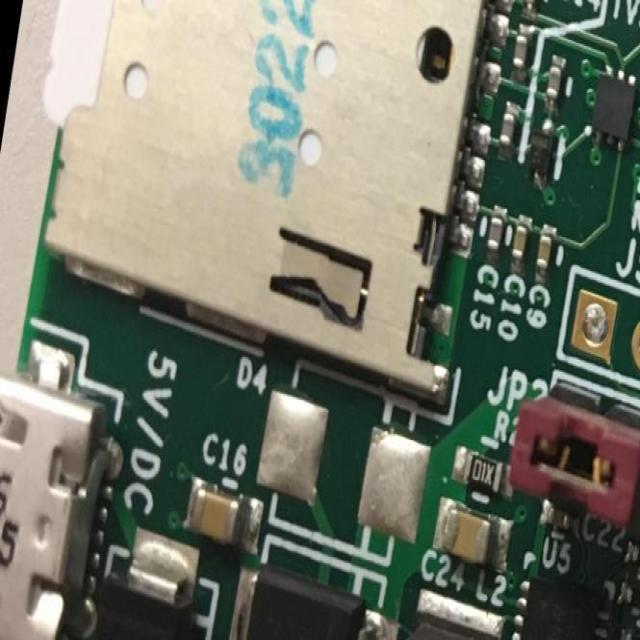IC: (507, 557, 610, 640)
capacitor: (182, 477, 266, 554), (433, 495, 512, 573), (540, 47, 569, 114), (494, 96, 522, 164), (508, 209, 536, 274), (538, 499, 582, 538), (481, 202, 508, 265), (534, 221, 560, 281), (509, 16, 533, 77), (516, 0, 548, 22)
connector: (17, 0, 538, 424), (0, 303, 131, 640), (556, 262, 640, 399), (631, 152, 639, 640)
diode: (222, 527, 406, 640), (82, 539, 216, 640), (587, 61, 638, 152), (523, 114, 565, 194)
inductor: (381, 579, 502, 640)
jumper: (511, 361, 640, 529)
pads: (257, 382, 437, 545)
resistor: (451, 446, 515, 504), (615, 570, 640, 626), (623, 535, 640, 575), (615, 622, 640, 640)
